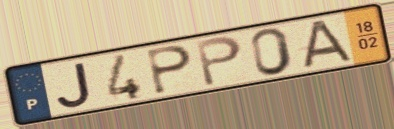0: (249, 26, 295, 77)
4: (105, 52, 145, 102)
A: (298, 17, 357, 71)
J: (55, 60, 94, 109)
P: (193, 33, 245, 89), (145, 43, 195, 97)
